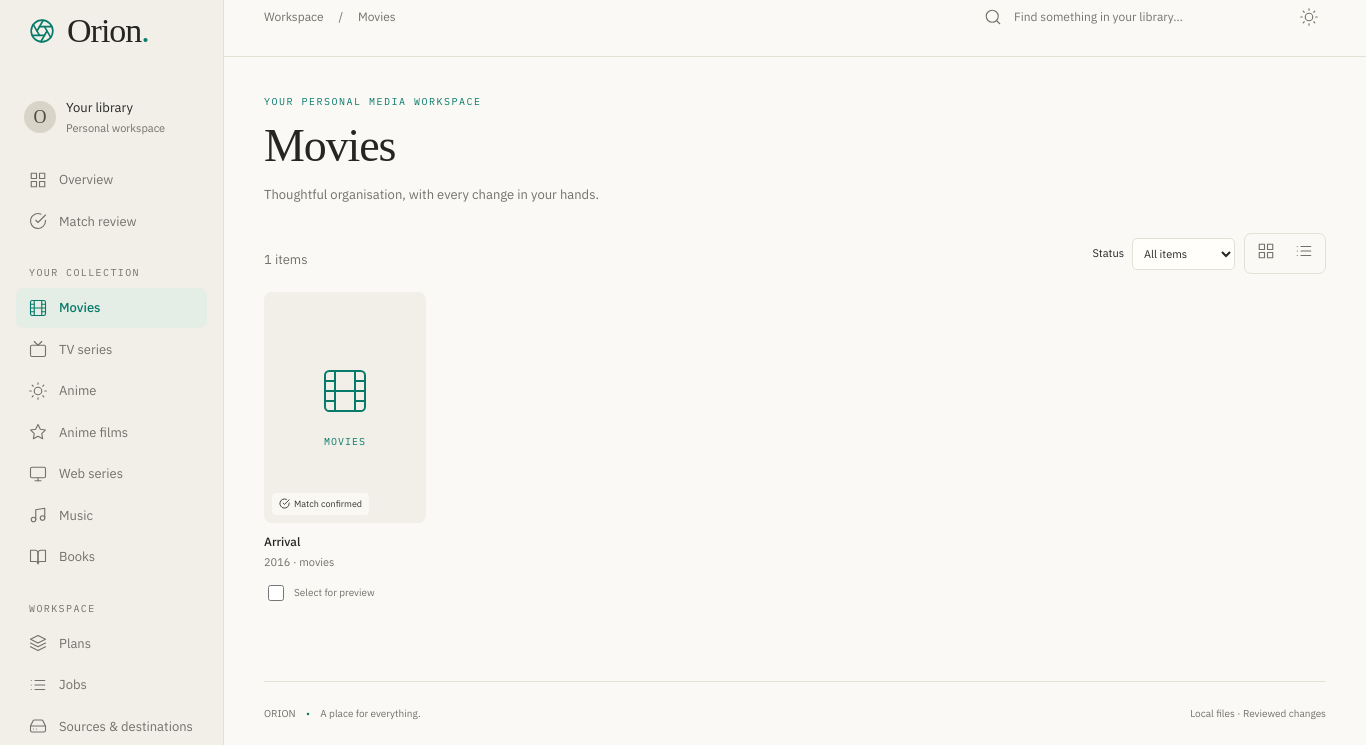
it: confirmed selected items produce preview without executing file changes
The image size is (1366, 745).
Click the checkbox named "Select Arrival". click: (276, 593)
box: [268,585,284,601]
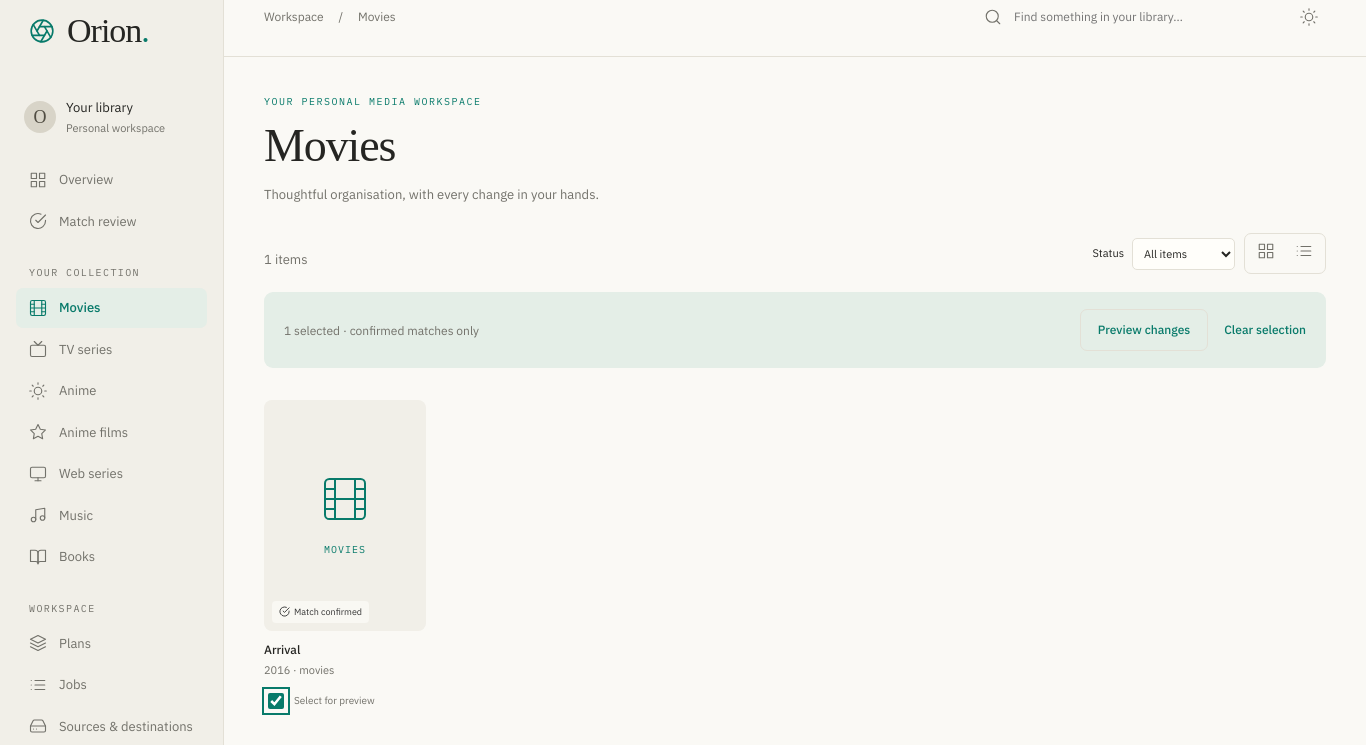
Click the button "Preview changes". click: (1144, 330)
box: [1080,309,1208,351]
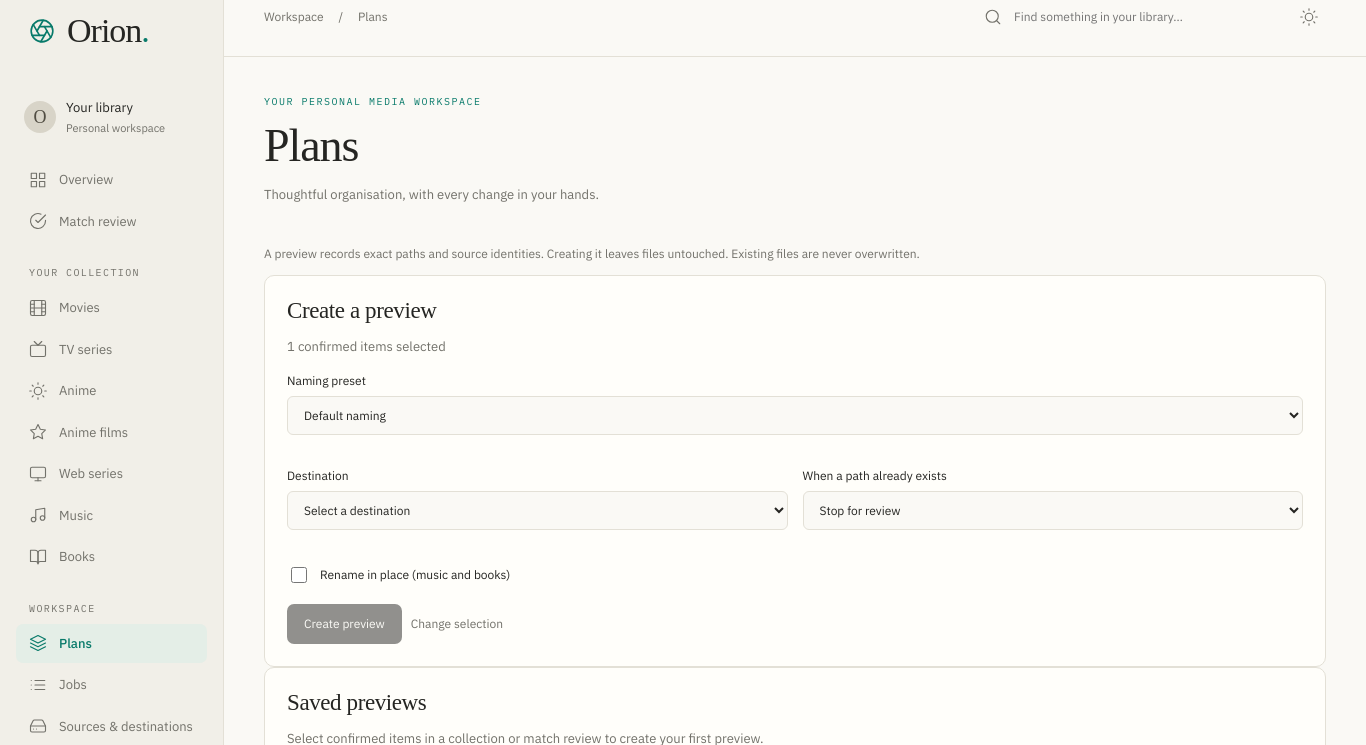
Select "Library · D:\\Library" in the dropdown labelled "Destination". click: (537, 511)
box: [287,491,788,530]
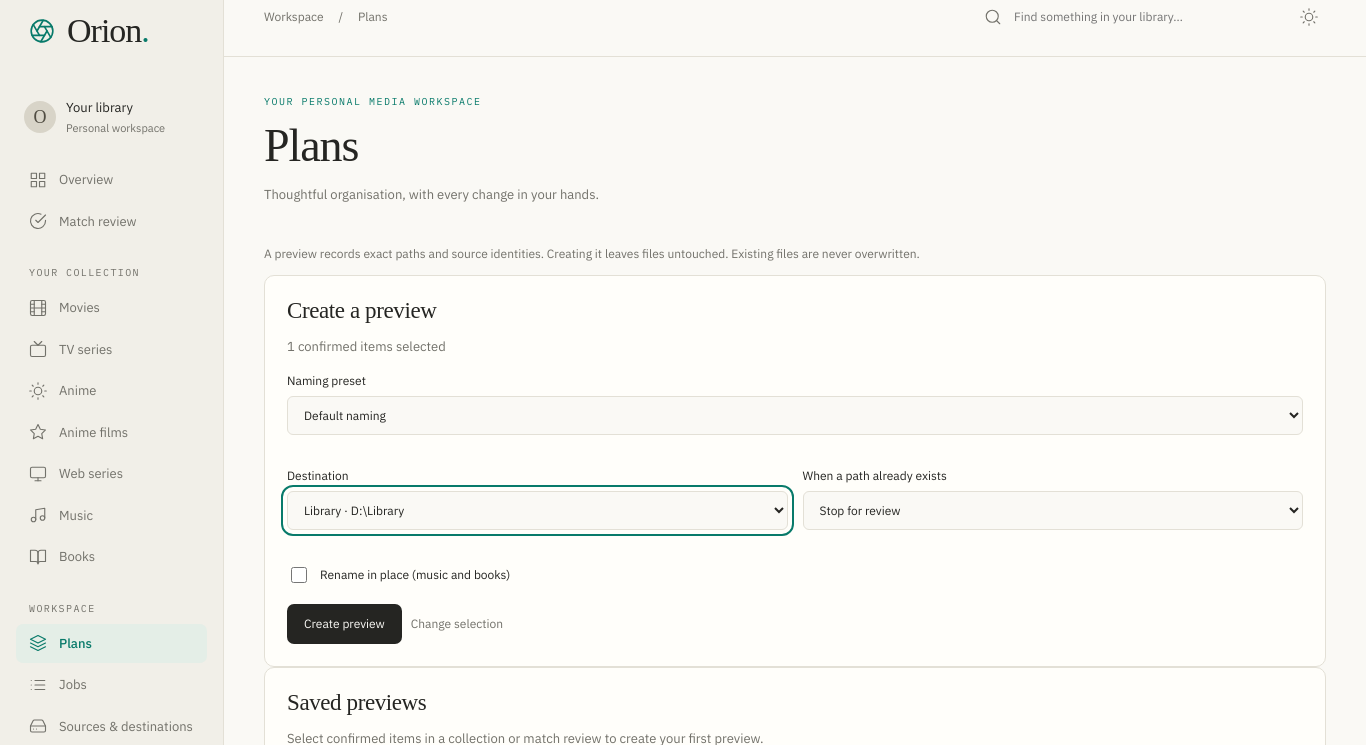
Click the button "Create preview". click: (344, 624)
box: [287,604,402,644]
(page scrolled)
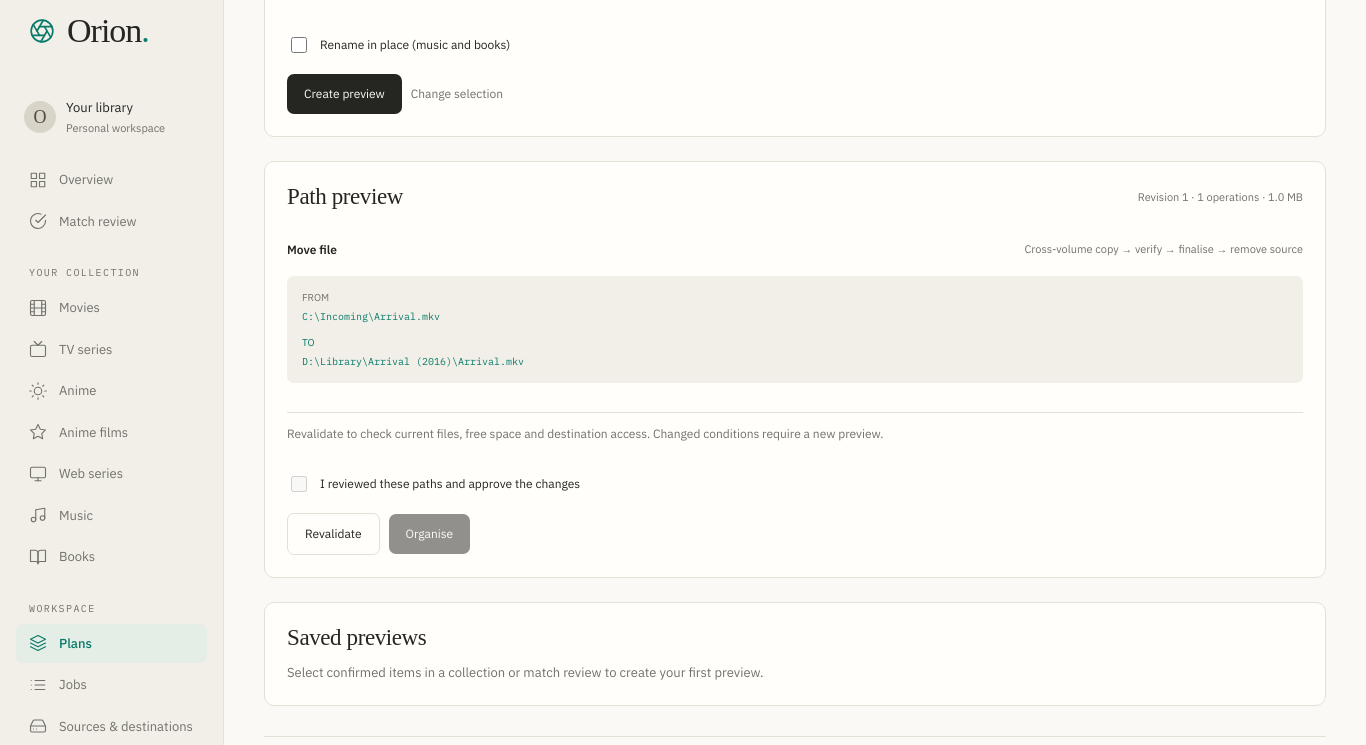
Expected: the text "D:\\Library\\Arrival (2016)\\Arrival.mkv" is shown, [302,355,524,368]
